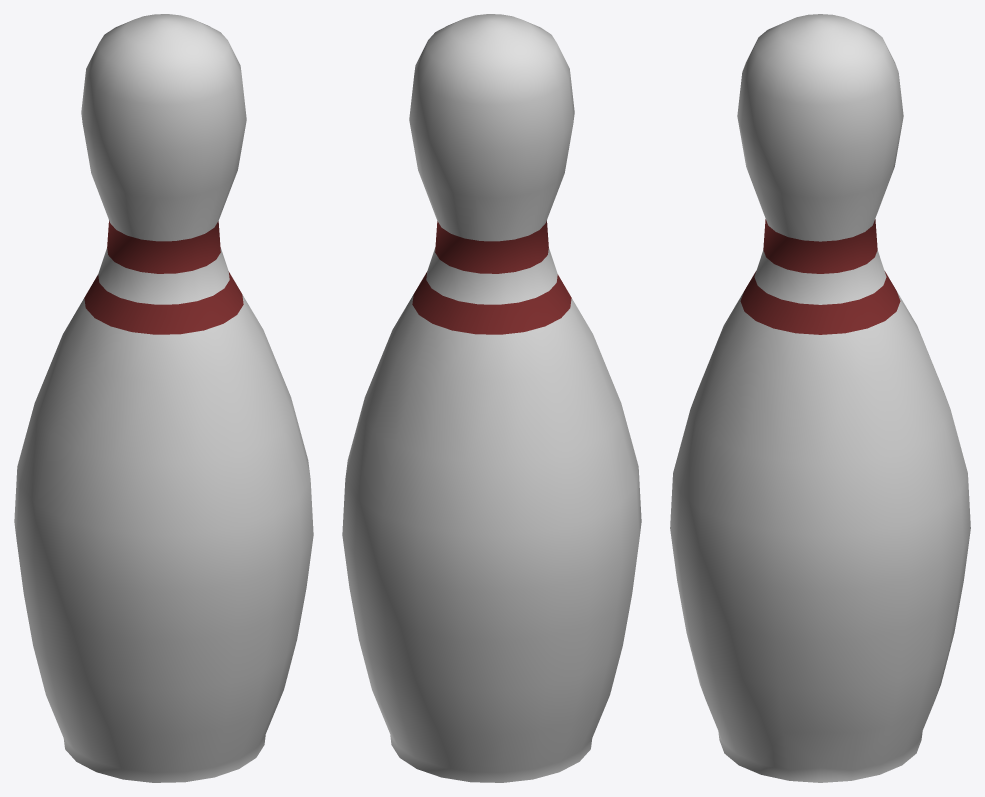
File: pr_BowlingPin.fbx
3 views of the same model, side by side, from view 1: azimuth 30°, elevation 25°; view 2: azimuth 150°, elevation 25°; view 3: azimuth 270°, elevation 25° (orthographic).
Parts seen in each view (by area): view 1: BowlingPin; view 2: BowlingPin; view 3: BowlingPin.
Part boxes in pixels (x1,y1,x2,y2): BowlingPin: [14, 14, 313, 782]; BowlingPin: [342, 14, 641, 782]; BowlingPin: [670, 14, 970, 782].
Bounding box in the file's own units: 80.88 × 213 × 80.88.
